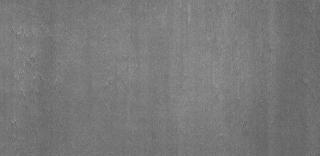silk spot: (12, 21, 56, 100), (100, 64, 126, 92)
